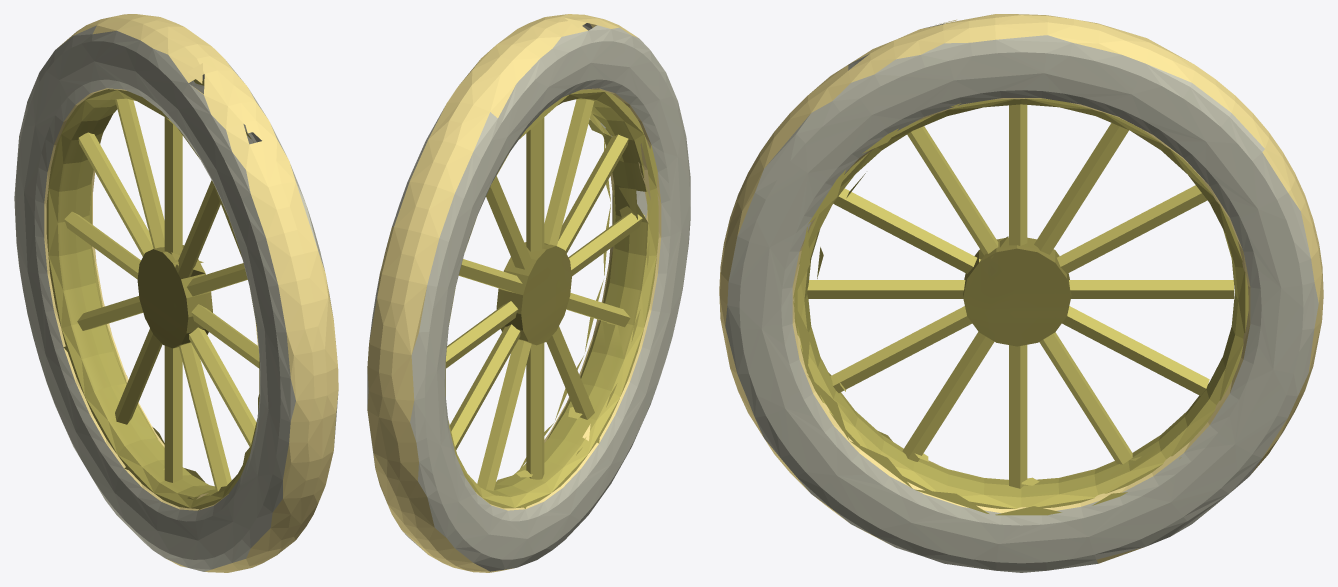
The model's file is ruedaSteamCar1CrashGrunt.obj.
3 views of the same model, side by side, from view 1: azimuth 30°, elevation 25°; view 2: azimuth 150°, elevation 25°; view 3: azimuth 270°, elevation 25° (orthographic). The views are drawn at different scales.
Visible parts, largest first — view 1: steamCar.007_Material.014, steamCar.008_Material.014; view 2: steamCar.007_Material.014, steamCar.008_Material.014; view 3: steamCar.007_Material.014, steamCar.008_Material.014.
Boxes of the visible parts, x1,y1,x2,y2 form: steamCar.007_Material.014: (14, 14, 338, 572); steamCar.008_Material.014: (63, 63, 259, 499); steamCar.007_Material.014: (367, 14, 690, 572); steamCar.008_Material.014: (495, 18, 650, 484); steamCar.007_Material.014: (719, 14, 1323, 572); steamCar.008_Material.014: (793, 19, 1181, 515).
Size of the model in its own units: 0.0962 by 0.7824 by 0.7837.
